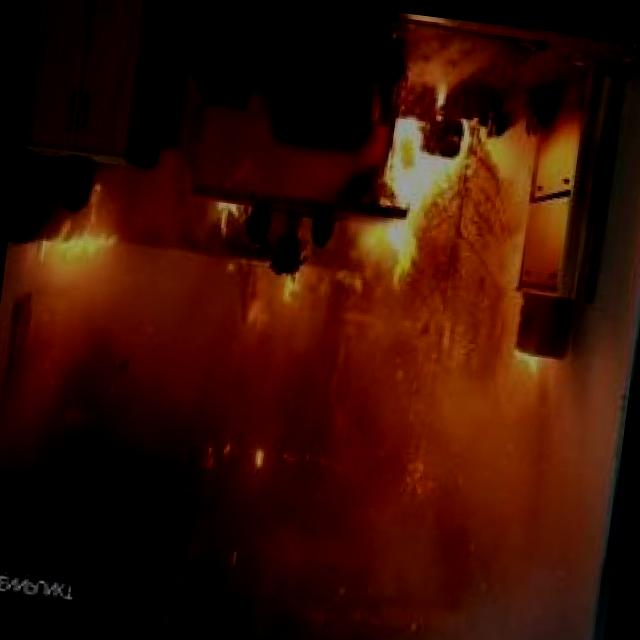fire: (9, 51, 524, 378)
